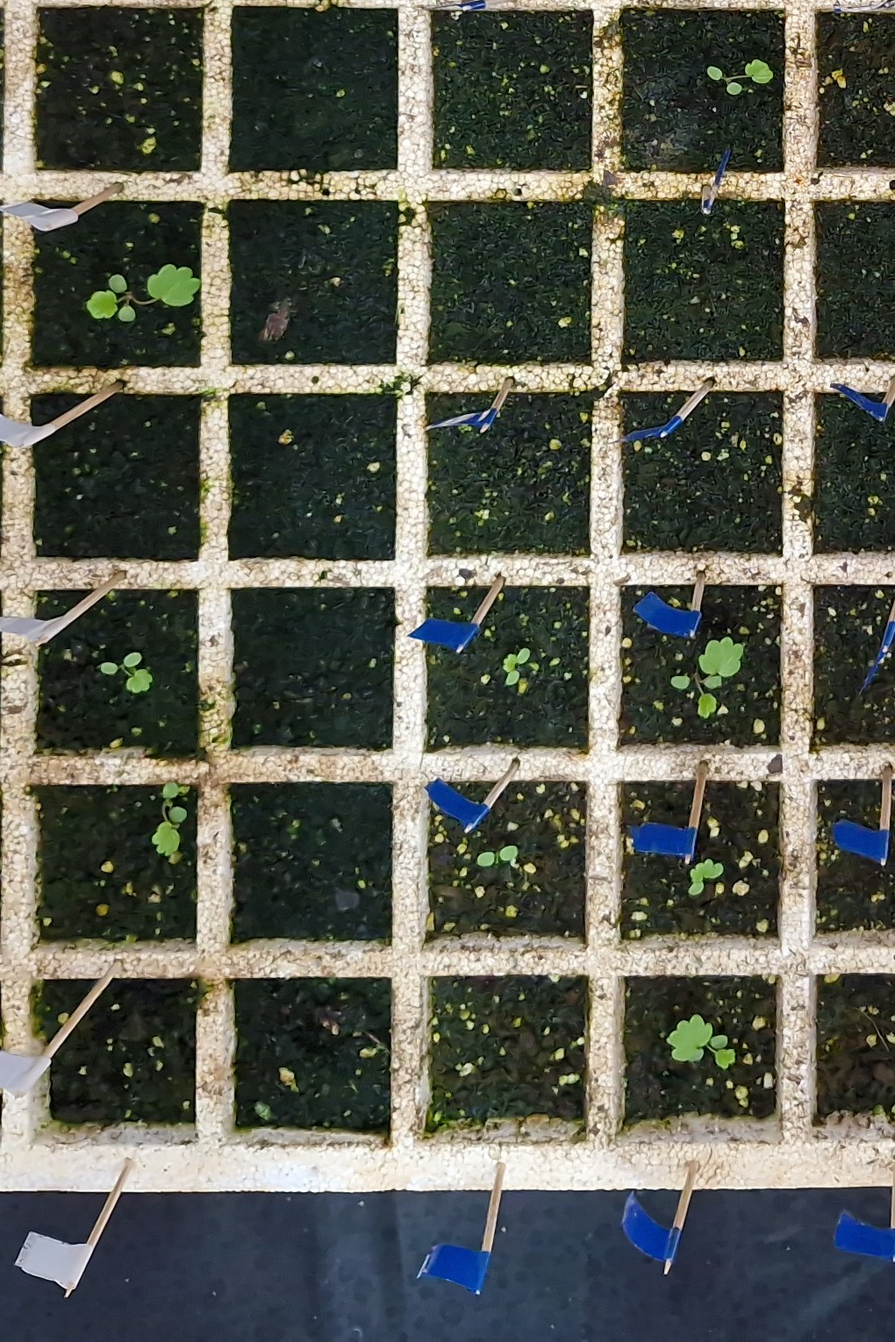Folha: (148, 266, 201, 306), (669, 1015, 712, 1061), (699, 637, 743, 676), (87, 289, 118, 319), (153, 822, 180, 855), (126, 669, 153, 693), (745, 60, 773, 82), (691, 859, 715, 883), (697, 694, 716, 719), (714, 1049, 736, 1069), (110, 275, 127, 293), (118, 305, 135, 322), (170, 807, 187, 822), (500, 846, 518, 860), (124, 653, 142, 667), (671, 676, 690, 689), (163, 782, 178, 798), (710, 1036, 728, 1049), (503, 654, 516, 672), (516, 648, 530, 664), (506, 670, 520, 685), (478, 852, 494, 865), (708, 66, 722, 80), (689, 881, 703, 895), (101, 663, 118, 674), (727, 83, 742, 95), (712, 863, 723, 878)
Germinacao: (87, 265, 201, 322), (671, 637, 744, 719), (669, 1014, 737, 1068), (152, 782, 187, 855), (708, 60, 773, 95), (100, 652, 153, 692), (689, 859, 723, 895), (503, 648, 530, 685), (477, 845, 518, 867)
